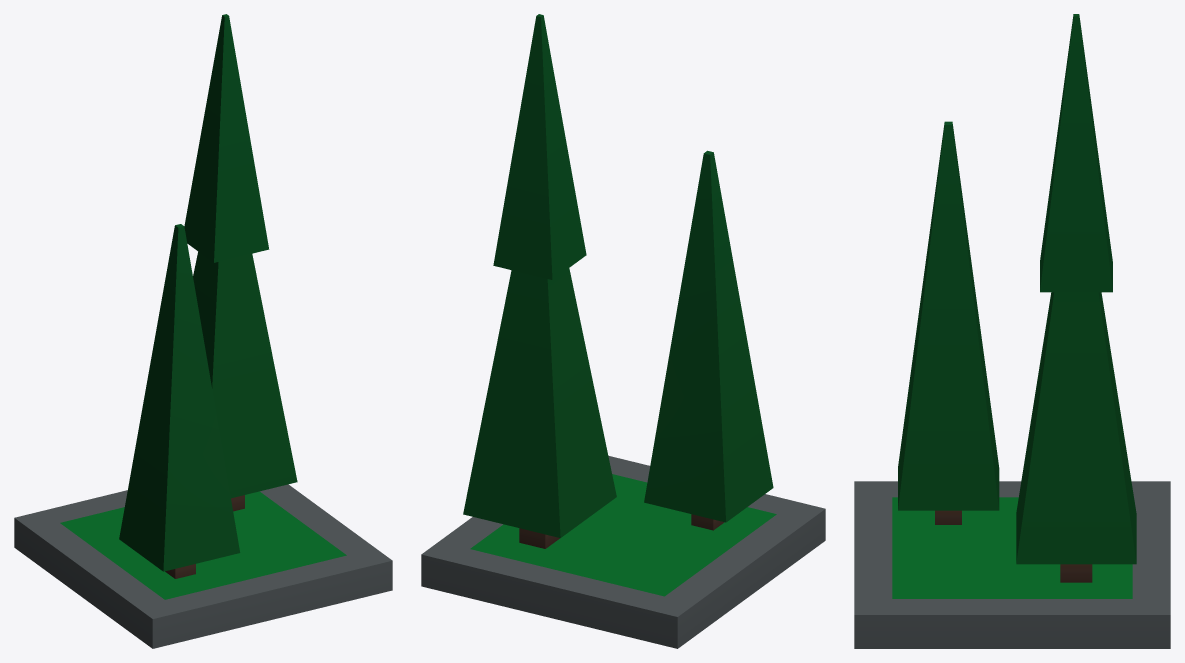
Rendered from fir tree group 1.fbx.
The picture shows the model from 3 angles, left to right: view 1: azimuth 30°, elevation 25°; view 2: azimuth 150°, elevation 25°; view 3: azimuth 270°, elevation 25°; orthographic projection. The views are drawn at different scales.
Parts seen in each view (by area): view 1: fir tree group 1; view 2: fir tree group 1; view 3: fir tree group 1.
Part boxes in pixels (x1,y1,x2,y2): fir tree group 1: (14, 14, 392, 648); fir tree group 1: (421, 14, 825, 648); fir tree group 1: (854, 14, 1170, 648).
Bounding box in the file's own units: 169 × 350 × 169.
Materials: 1 (1 with a texture image).
